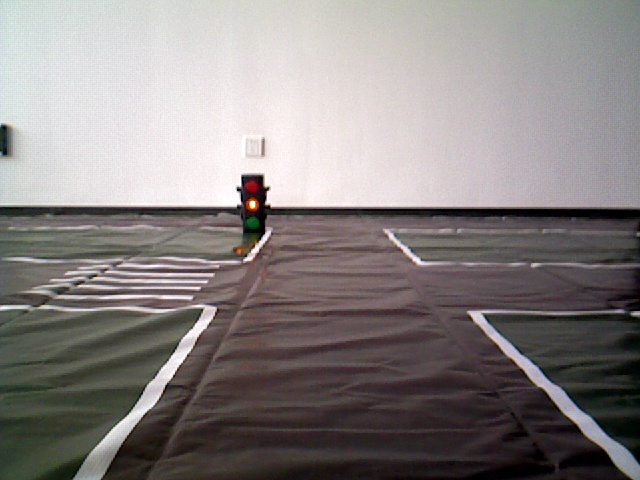yellow: (240, 177, 267, 242)
